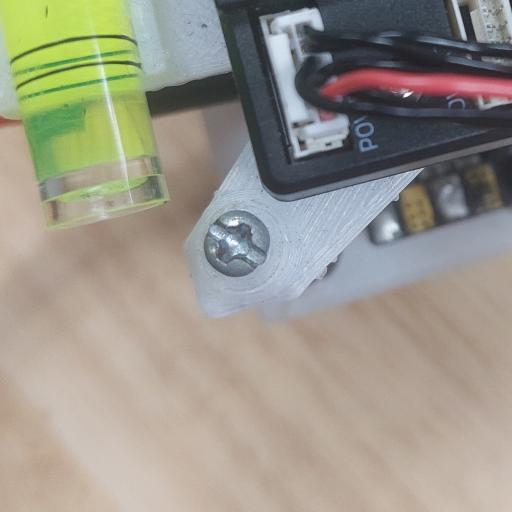Phillips: (205, 206, 271, 276)
